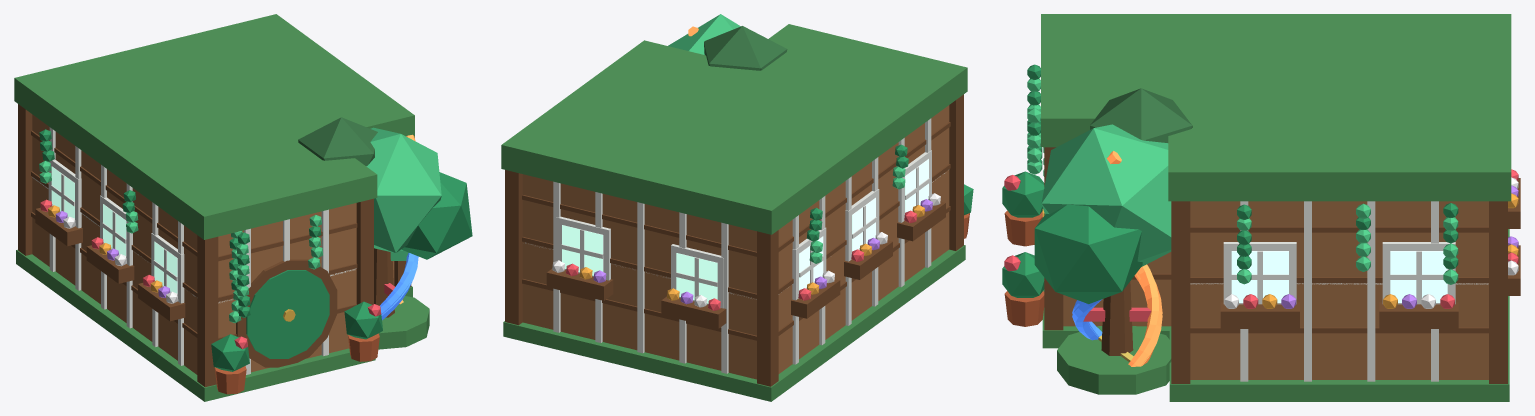
The model's file is biology.glb.
The picture shows the model from 3 angles, left to right: view 1: azimuth 30°, elevation 25°; view 2: azimuth 150°, elevation 25°; view 3: azimuth 270°, elevation 25°; orthographic projection. The views are drawn at different scales.
Parts seen in each view (by area): view 1: biology_base, biology_top_tree, biology_middle, biology_top; view 2: biology_base, biology_middle, biology_top_tree; view 3: biology_base, biology_top_tree, biology_middle, biology_top.
Boxes of the visible parts, left/top/right/bottom form: biology_base: left=14, top=14, right=429, bottom=401; biology_top_tree: left=298, top=117, right=472, bottom=317; biology_middle: left=14, top=90, right=418, bottom=374; biology_top: left=379, top=296, right=429, bottom=348; biology_base: left=501, top=24, right=973, bottom=401; biology_middle: left=501, top=80, right=967, bottom=373; biology_top_tree: left=668, top=14, right=787, bottom=70; biology_base: left=1002, top=14, right=1520, bottom=401; biology_top_tree: left=1034, top=88, right=1192, bottom=355; biology_middle: left=1027, top=64, right=1511, bottom=381; biology_top: left=1057, top=326, right=1171, bottom=394.
Size of the model in its own units: 2.64 by 1.86 by 3.26.
